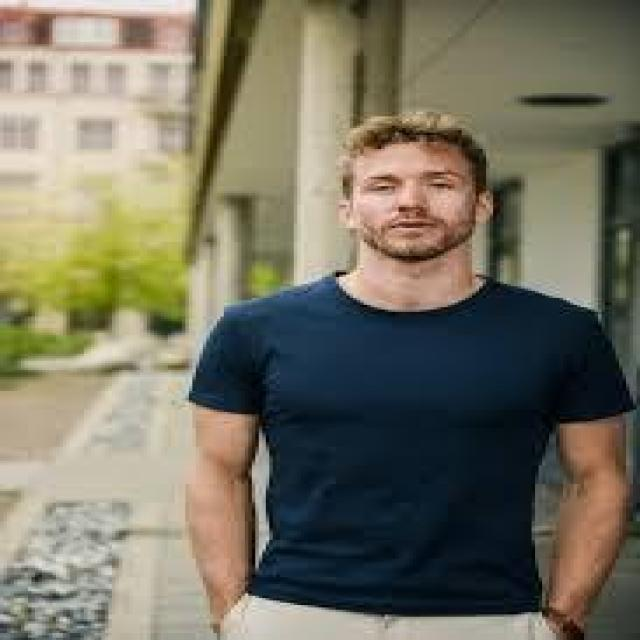Tshirt: (185, 270, 640, 621)
